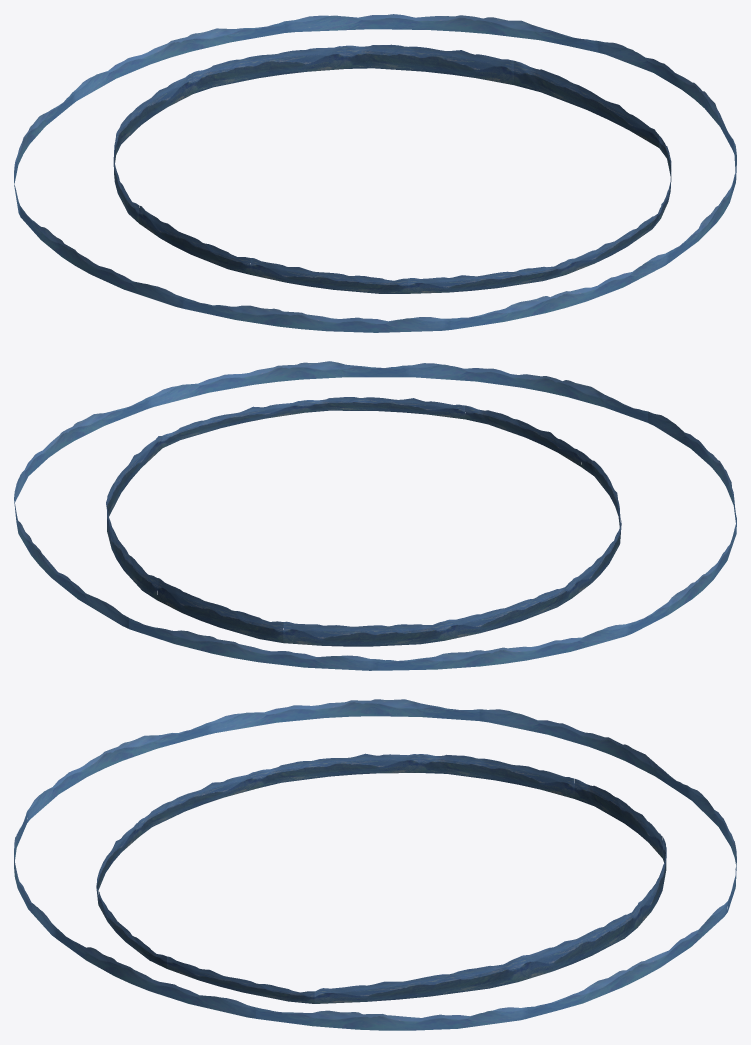
The model's file is Austin_track_terrain_wall.dae.
3 views of the same model, one above another, from view 1: azimuth 30°, elevation 25°; view 2: azimuth 150°, elevation 25°; view 3: azimuth 270°, elevation 25° (orthographic). The views are drawn at different scales.
Parts seen in each view (by area): view 1: terrain_Wall_01, terrain_Wall_02; view 2: terrain_Wall_02, terrain_Wall_01; view 3: terrain_Wall_01, terrain_Wall_02.
Part boxes in pixels (x1,y1,x2,y2): terrain_Wall_01: (113, 44, 671, 293); terrain_Wall_02: (14, 14, 736, 332); terrain_Wall_02: (14, 361, 736, 670); terrain_Wall_01: (106, 397, 621, 646); terrain_Wall_01: (96, 753, 666, 1003); terrain_Wall_02: (14, 699, 736, 1030).
Bounding box in the file's own units: 203 × 198 × 7.87.
Materials: 1 (1 with a texture image).
